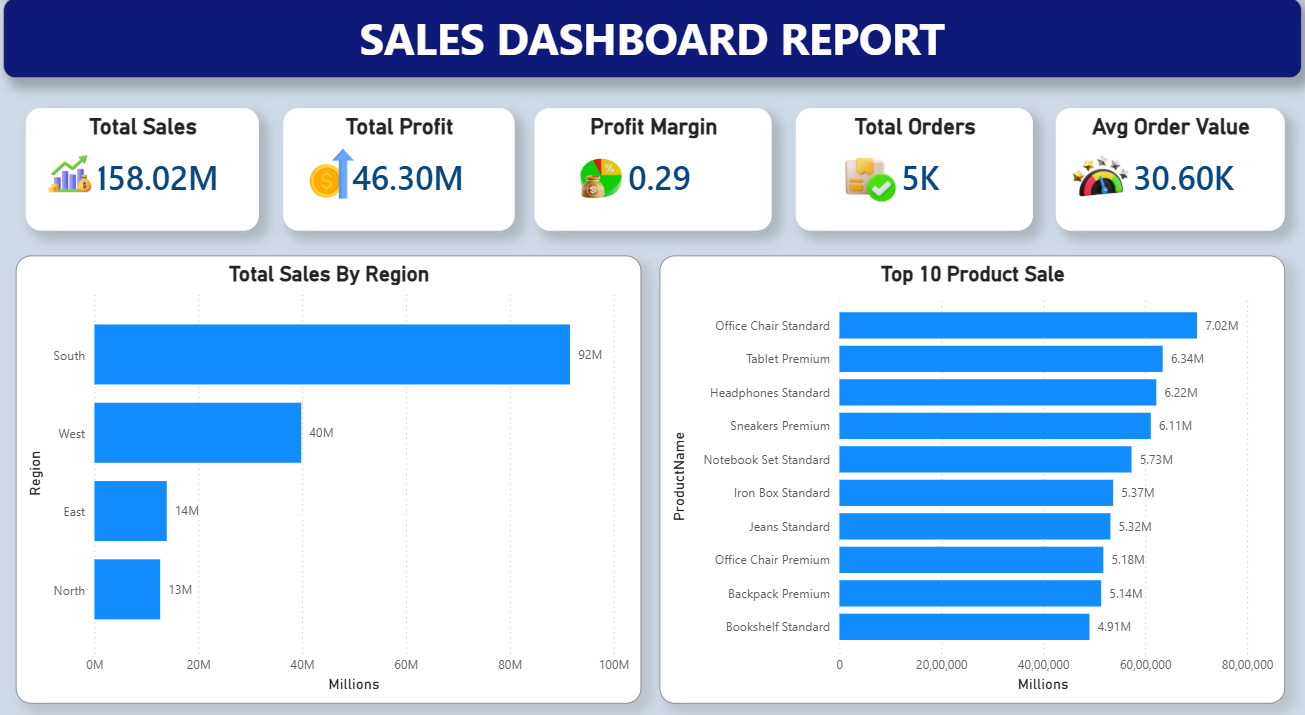

The page's visual inventory and layout, read from the dashboard file:
{"tool":"powerbi","page":{"name":"Executive Overview","canvas":[1280,720],"ordinal":0},"visuals":[{"type":"textbox","box":[6,0,1270,78],"z":0},{"type":"cardVisual","title":"Total Sales","fields":{"Data":["dim_customer.total_sales"]},"box":[28,108,228,120],"z":1000},{"type":"cardVisual","title":"Total Profit","fields":{"Data":["Sum(fact_sales.Profit)"]},"box":[280,108,226,120],"z":2000},{"type":"cardVisual","title":"Profit Margin","fields":{"Data":["dim_customer.Profit Margin %"]},"box":[526,108,232,120],"z":3000},{"type":"cardVisual","title":"Total Orders","fields":{"Data":["dim_customer.Total Orders"]},"box":[782,108,232,120],"z":4000},{"type":"cardVisual","title":"Avg Order Value","fields":{"Data":["dim_customer.Avg Order Value"]},"box":[1036,108,224,120],"z":5000},{"type":"image","box":[43,131.4,57,81.4],"z":6000},{"type":"image","box":[303.5,144.2,48.8,54.7],"z":7000},{"type":"image","box":[527.9,155.8,125.6,41.9],"z":8000},{"type":"image","box":[826.7,137.2,55.8,79.1],"z":9000},{"type":"image","box":[1051.2,143,55.8,60.5],"z":10000},{"type":"barChart","title":"Total Sales By Region","fields":{"Y":["Sum(fact_sales.SalesAmount)"],"Category":["dim_store.Region"]},"box":[18.3,251.7,611.7,438.3],"z":11000},{"type":"barChart","title":"Top 10 Product Sale","fields":{"Y":["Sum(fact_sales.SalesAmount)"],"Category":["dim_product.ProductName"]},"box":[648.3,251.7,611.7,438.3],"z":12000}]}

Visuals, with their boxes in screenshot pixels (x1, y1, x2, y2), scaled from the page's 1280x720 canvas onto the 1305x715 screenshot:
textbox: region(6, 0, 1301, 77)
"Total Sales" cardVisual: region(29, 107, 261, 226)
"Total Profit" cardVisual: region(285, 107, 516, 226)
"Profit Margin" cardVisual: region(536, 107, 773, 226)
"Total Orders" cardVisual: region(797, 107, 1034, 226)
"Avg Order Value" cardVisual: region(1056, 107, 1285, 226)
image: region(44, 130, 102, 211)
image: region(309, 143, 359, 198)
image: region(538, 155, 666, 196)
image: region(843, 136, 900, 215)
image: region(1072, 142, 1129, 202)
"Total Sales By Region" barChart: region(19, 250, 642, 685)
"Top 10 Product Sale" barChart: region(661, 250, 1285, 685)
